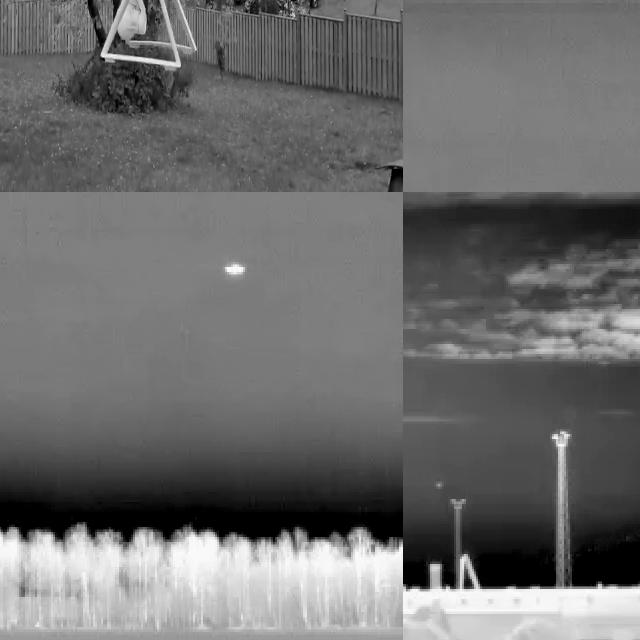0: (424, 476, 452, 496)
1: (212, 257, 246, 285)
drone: (46, 0, 228, 65)
